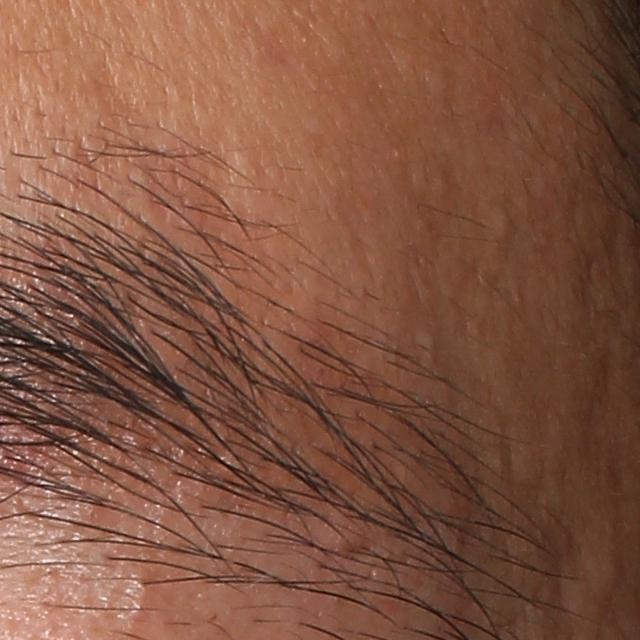comedo: (485, 209, 515, 242)
